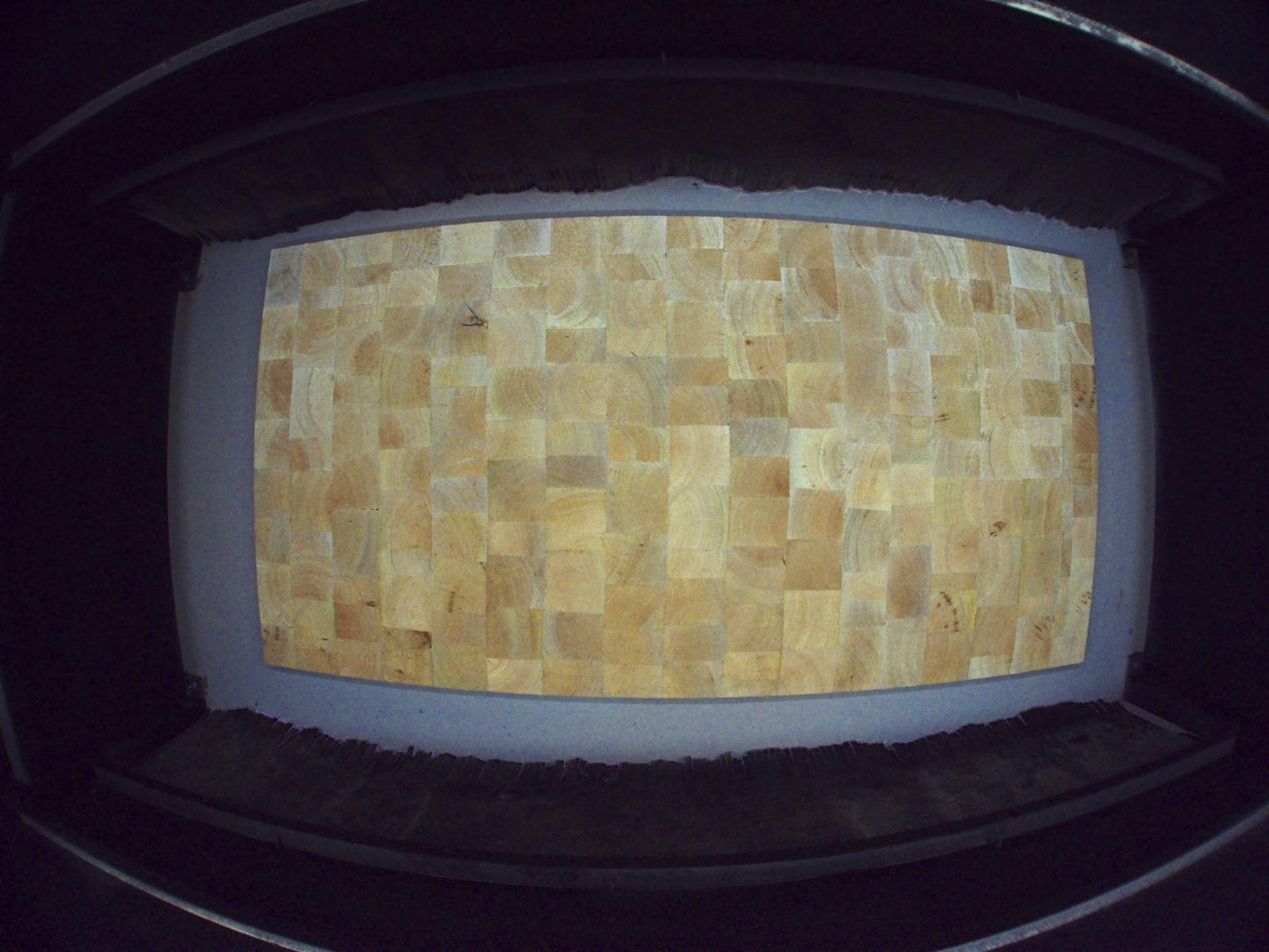nudillo: (466, 315, 489, 330)
